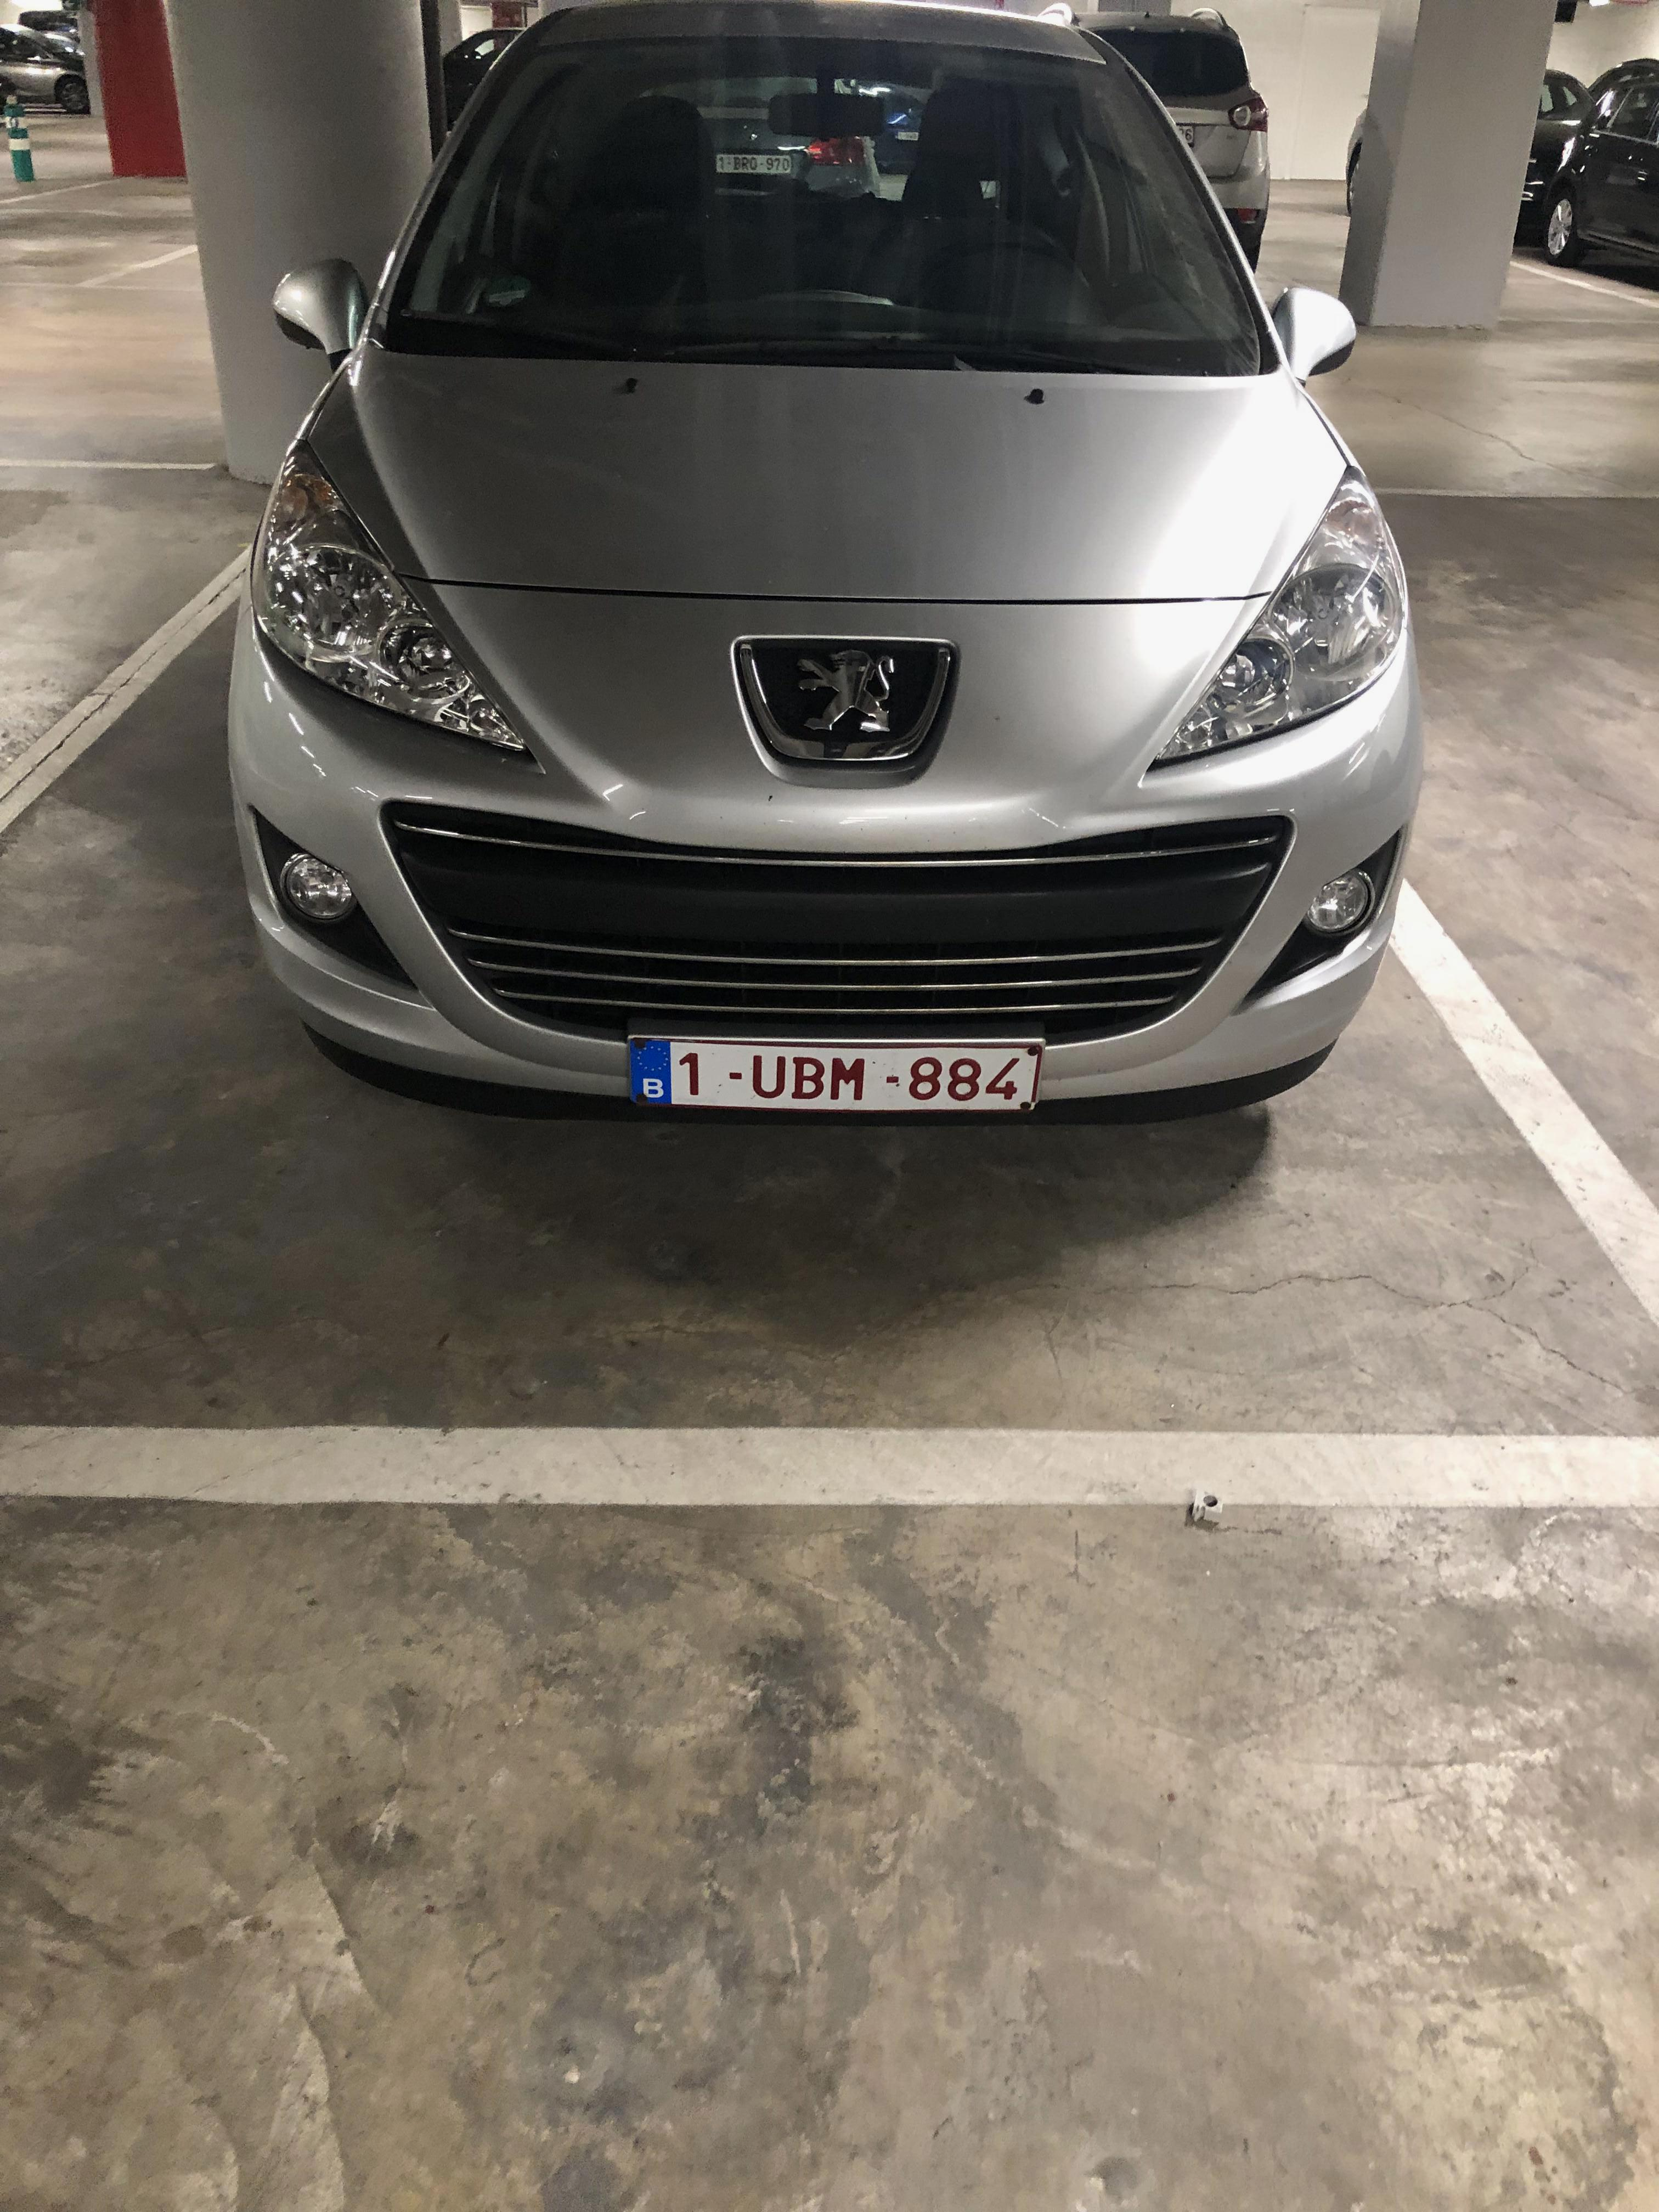plate: (597, 1020, 1066, 1127)
